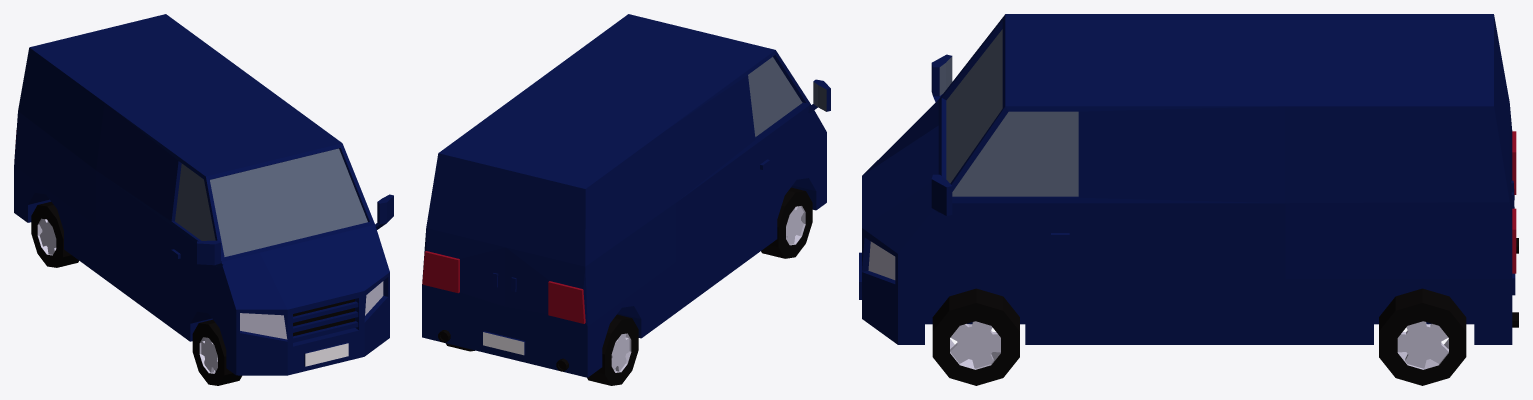
The model's file is Van.gltf.
3 renders of one model, left to right at view 1: azimuth 30°, elevation 25°; view 2: azimuth 150°, elevation 25°; view 3: azimuth 270°, elevation 25°, orthographic. The views are drawn at different scales.
Visible parts, largest first — view 1: Van, Van_wheel_front_right, Van_wheel_rear_right; view 2: Van, Van_wheel_rear_right, Van_wheel_front_right; view 3: Van, Van_wheel_front_left, Van_wheel_rear_left.
Boxes of the visible parts, <box> form: Van: <box>14,14,393,375</box>; Van_wheel_front_right: <box>192,319,241,385</box>; Van_wheel_rear_right: <box>31,201,78,267</box>; Van: <box>422,14,830,377</box>; Van_wheel_rear_right: <box>587,314,638,385</box>; Van_wheel_front_right: <box>761,187,812,258</box>; Van: <box>859,14,1518,344</box>; Van_wheel_front_left: <box>932,288,1019,385</box>; Van_wheel_rear_left: <box>1379,288,1466,385</box>.
Bounding box in the file's own units: 281 × 271 × 591.
